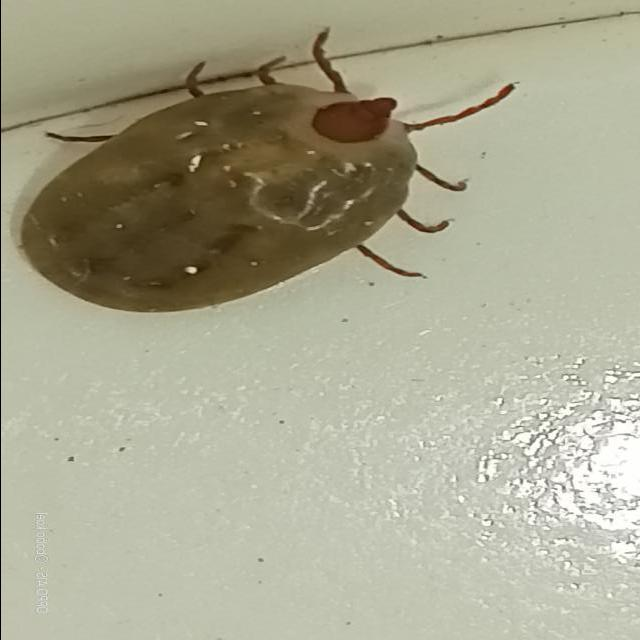Rhipicephalus Sanguineus-F-Fed: (18, 28, 516, 314)
